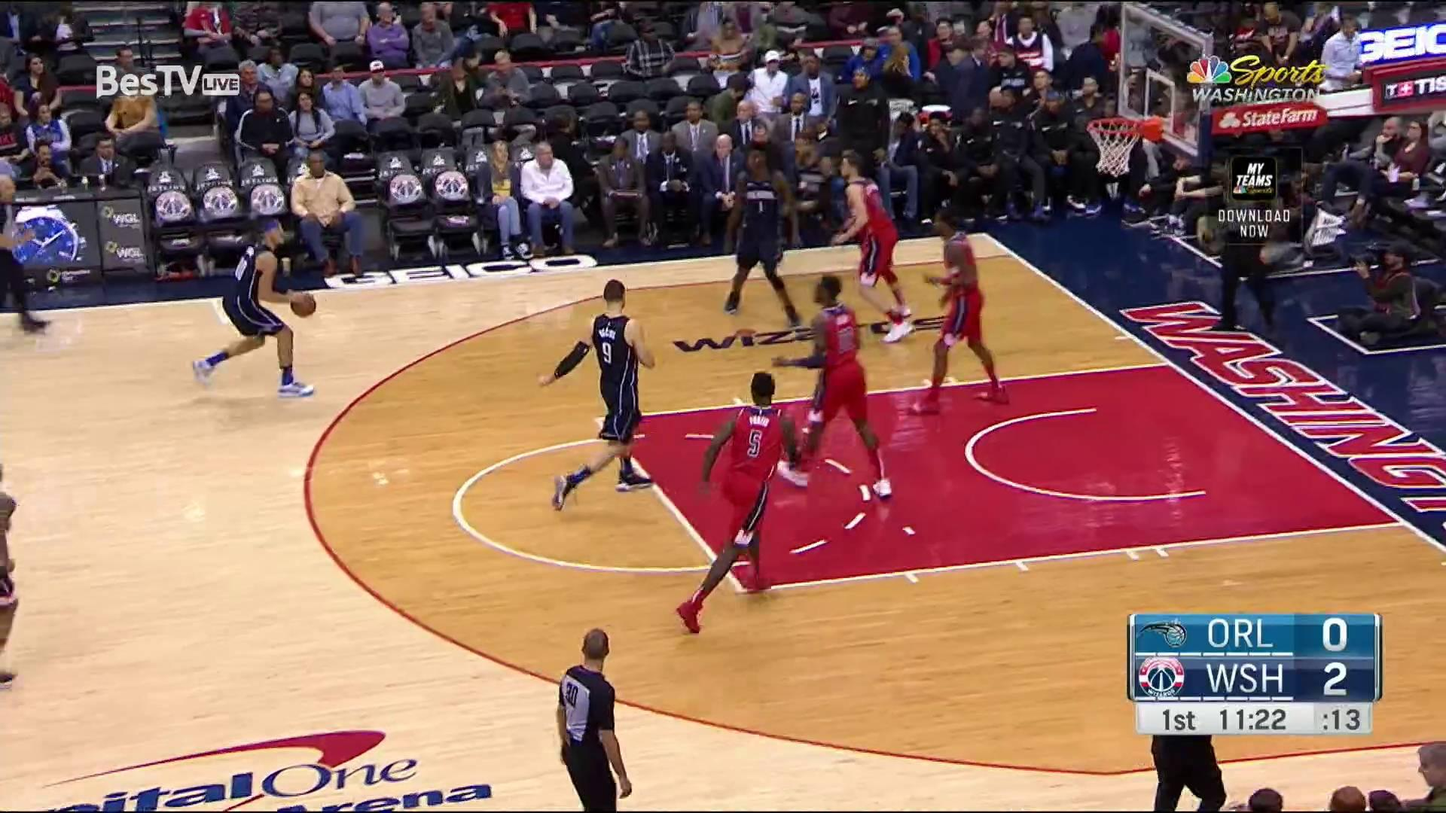basketball: (289, 289, 318, 319)
